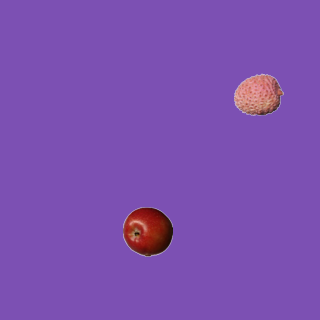Apple Braeburn: (122, 206, 172, 256)
Lychee: (233, 69, 283, 119)
